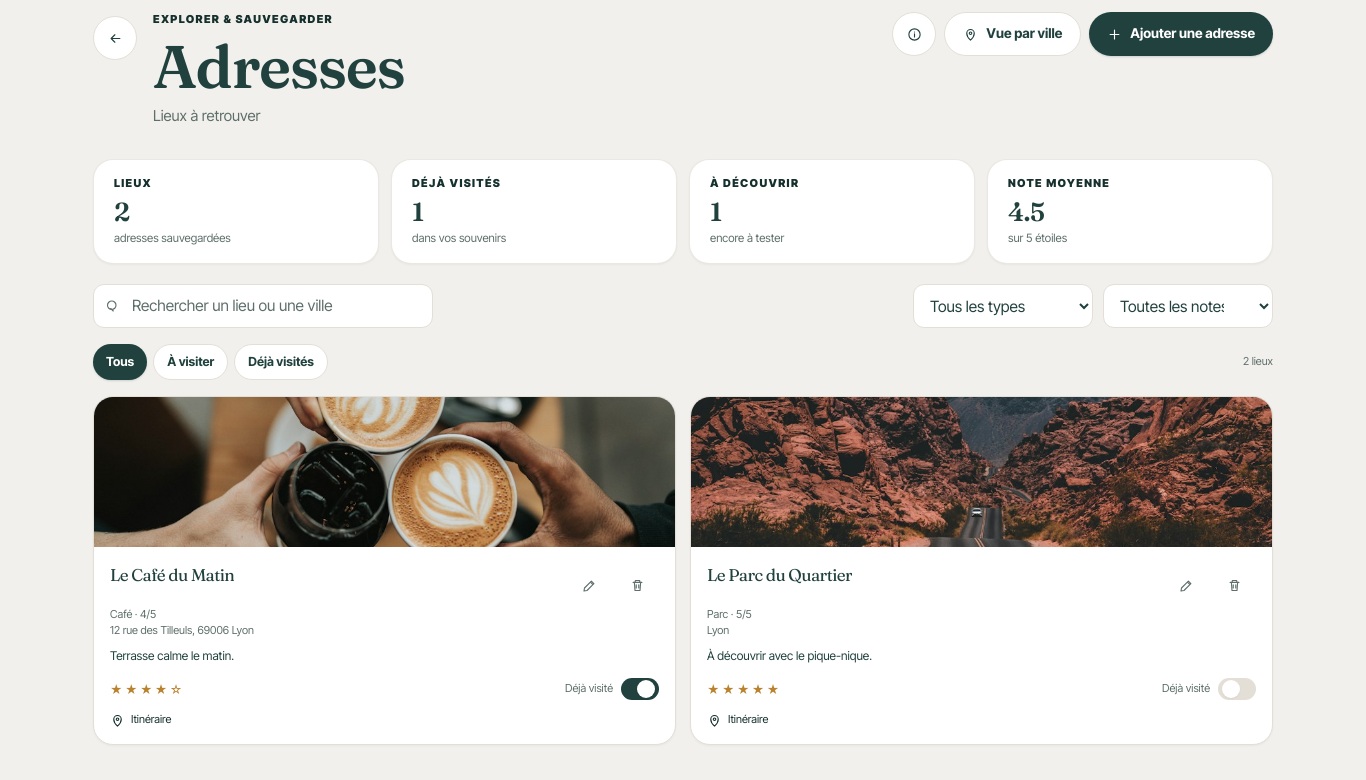
Scenario: Adresses › intitule honnêtement le regroupement par ville (D-06)
expect the button named "Modifier Le Café du Matin" is shown: met, box [567,563,611,607]
Click the button "Vue par ville": click(1013, 34) [944,12,1081,56]
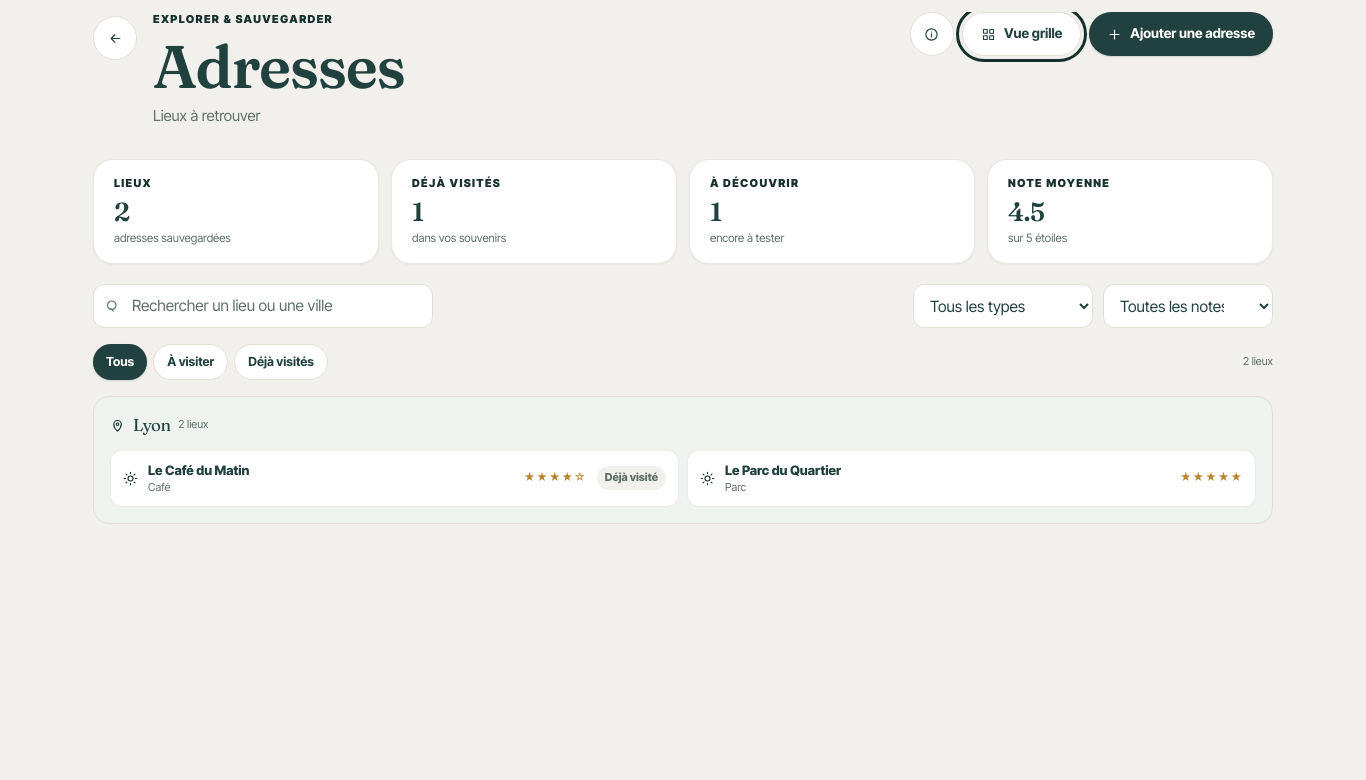
expect the heading "Lyon" is shown: met, box [133,413,170,438]
expect the button "Vue grille" is shown: met, box [962,12,1081,56]
